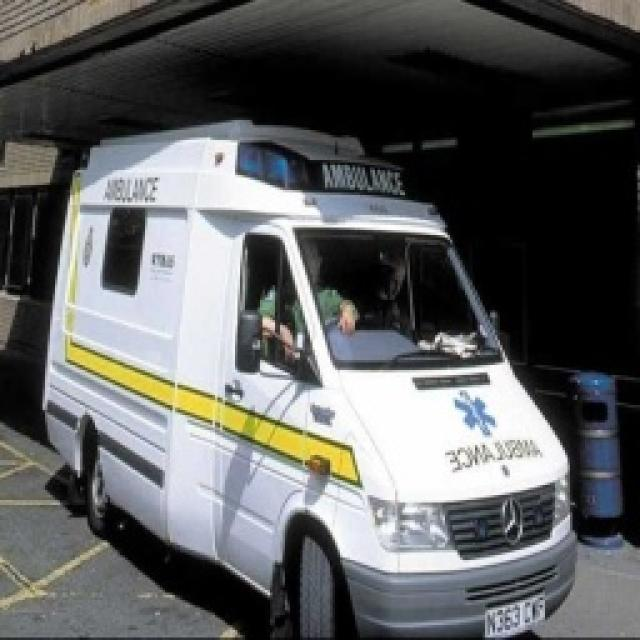emergency-vehicle: (37, 120, 580, 640)
